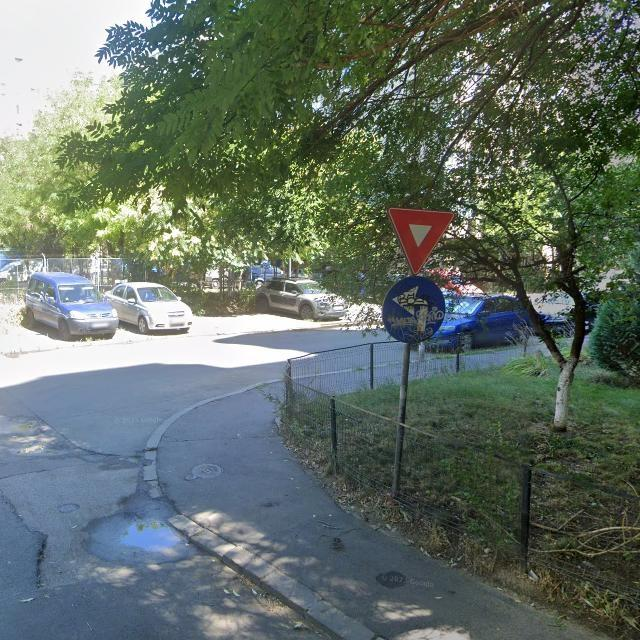prio_give_way: (387, 206, 456, 275)
